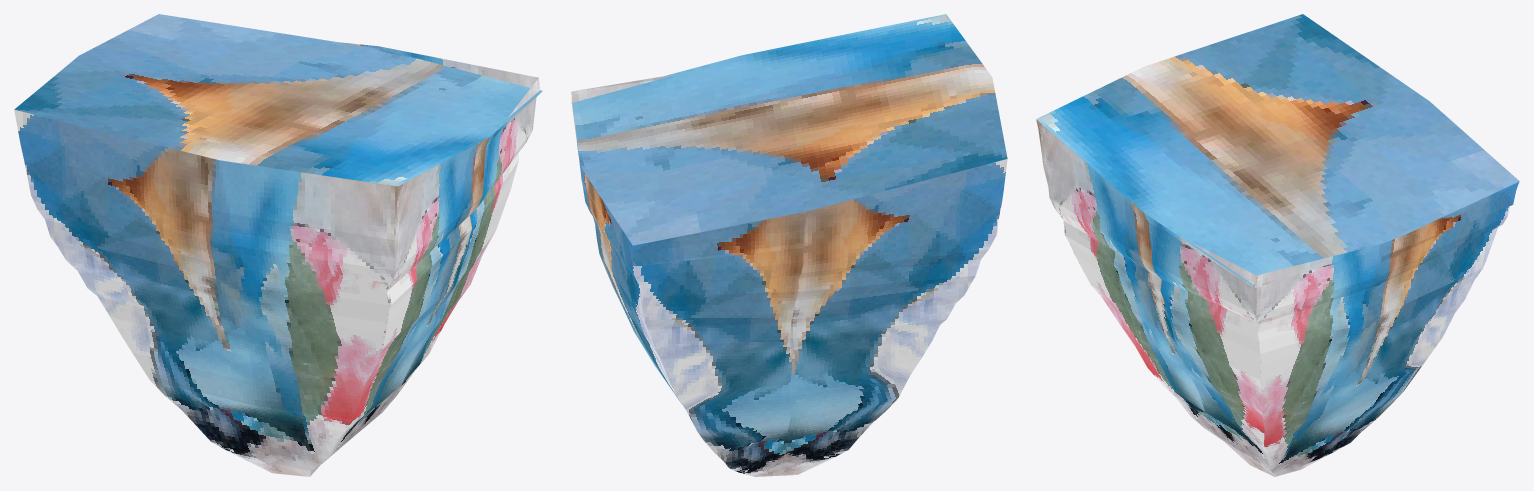
3 views of the same model, side by side, from view 1: azimuth 30°, elevation 25°; view 2: azimuth 150°, elevation 25°; view 3: azimuth 270°, elevation 25° (orthographic). The views are drawn at different scales.
Parts seen in each view (by area): view 1: SPLICE_1; view 2: SPLICE_1; view 3: SPLICE_1.
Part boxes in pixels (<box>): SPLICE_1: <box>14,14,542,476</box>; SPLICE_1: <box>571,14,1007,476</box>; SPLICE_1: <box>1036,14,1519,476</box>.
Size of the model in its own units: 2.1 by 1.65 by 2.1.
1 material, 1 textured.
